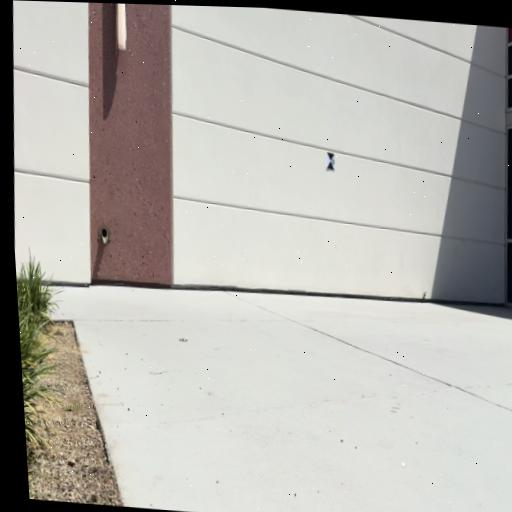target0: (325, 151, 337, 172)
